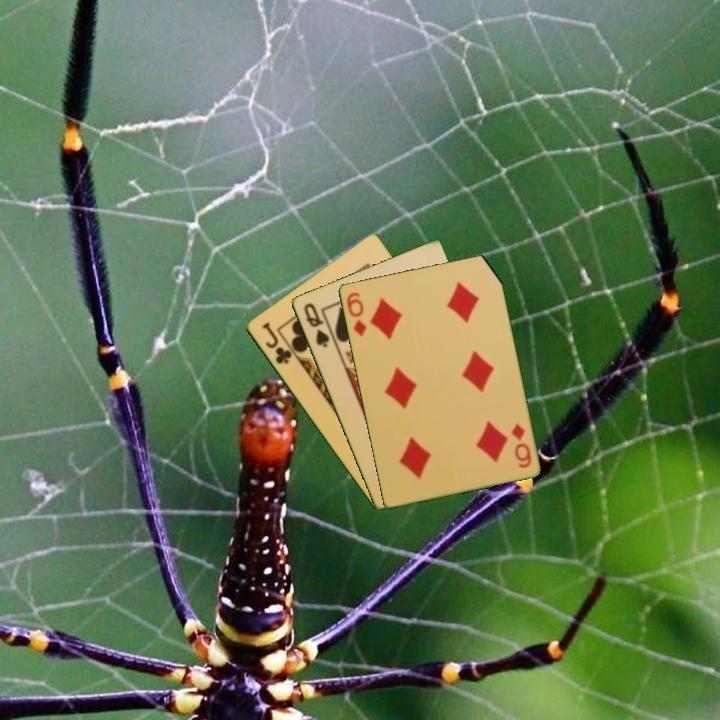6d: (343, 288, 369, 339), (508, 420, 534, 471)
Jc: (258, 318, 295, 367)
Qs: (300, 299, 332, 350)
